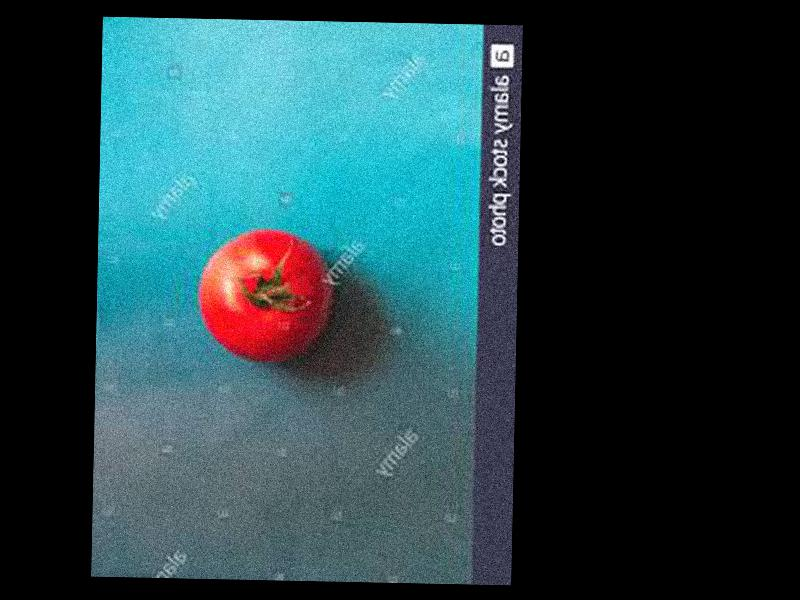Tomato: (196, 228, 335, 361)
